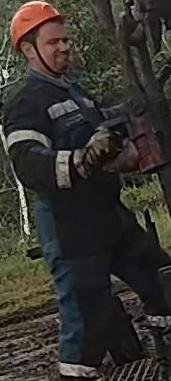gloves: (66, 130, 115, 181)
helmet: (9, 0, 69, 54)
vest: (6, 72, 119, 258)
